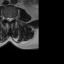CCS_normal: (8, 15, 10, 24)
LFS_normal: (12, 15, 15, 22)
LLS_normal: (10, 15, 12, 23)
RFS_normal: (4, 15, 6, 21)
RLS_normal: (6, 15, 8, 22)
